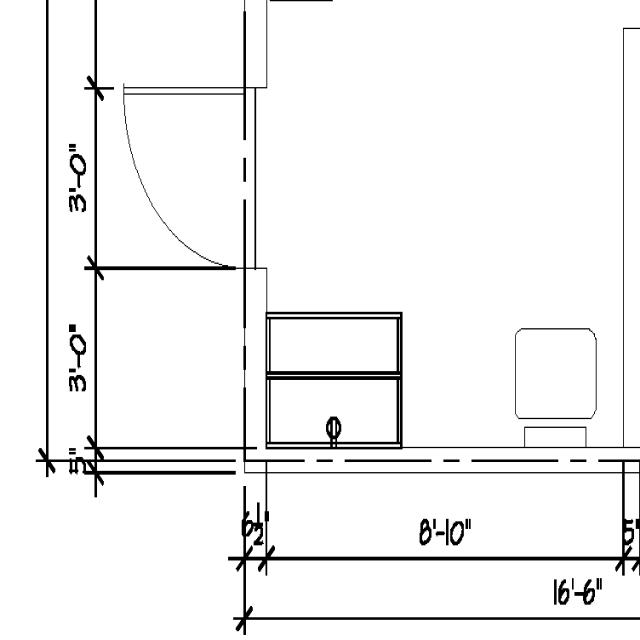Doors: (119, 80, 262, 275)
